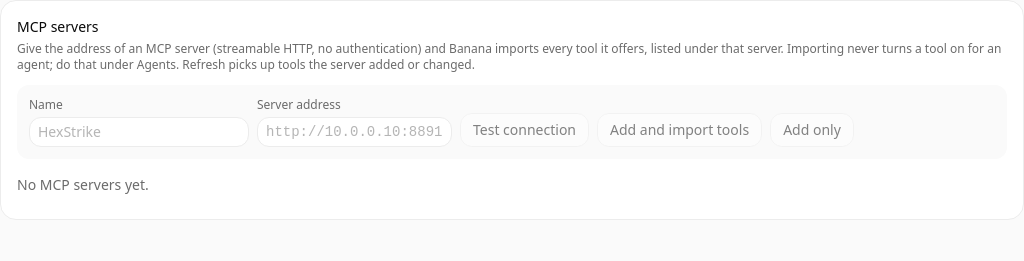
McpServersCard › reports a failed connection
In the field with placeholder "http://10.0.0.10:8891/mcp": (354, 132) [257,117,452,147], type "http://hex.local:8891/mcp"
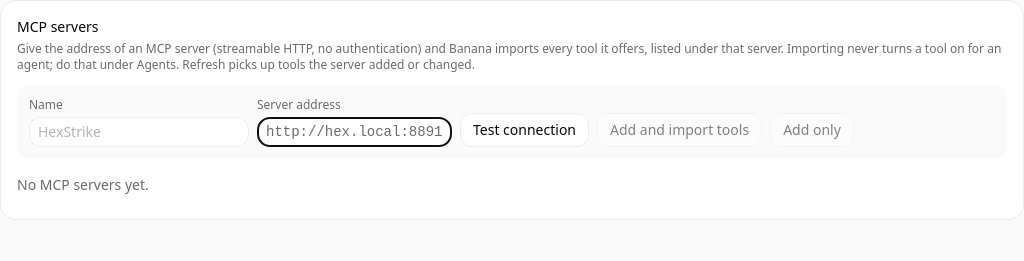
Click the button "Test connection": (524, 130) [460,113,589,147]
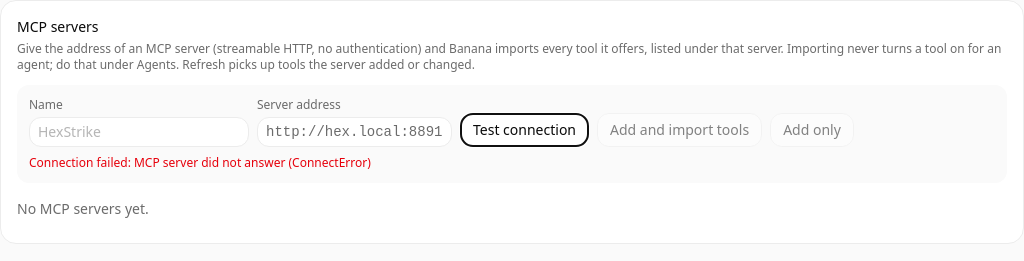
Result: the text "Connection failed: MCP server did not answer (ConnectError)" is shown at [29,154,371,171]
